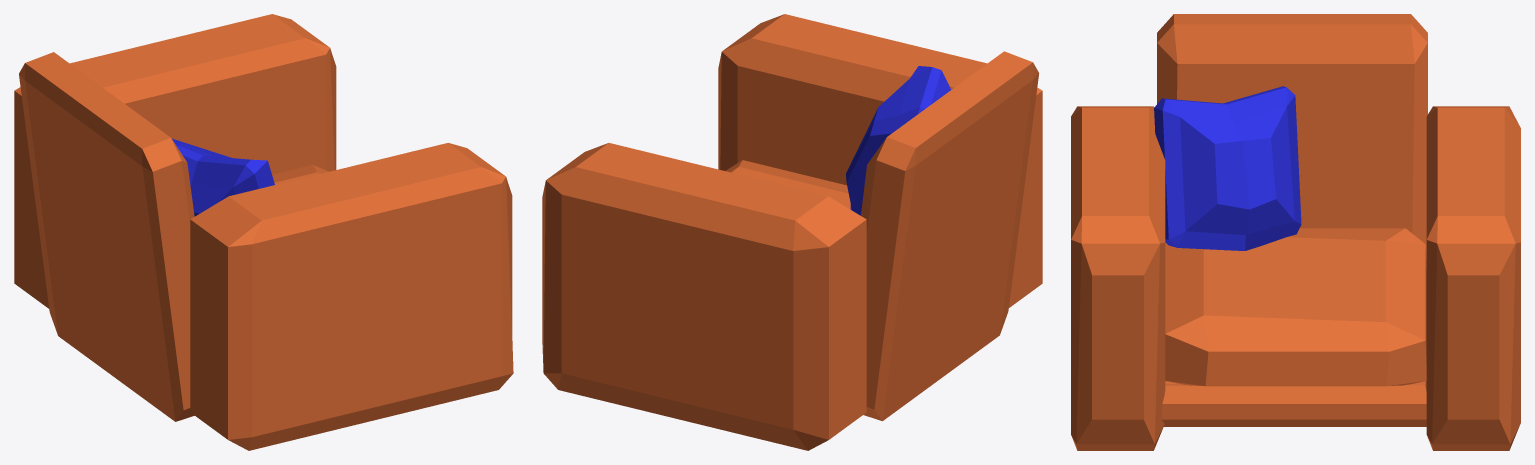
File: armchair(2).fbx
3 renders of one model, left to right at view 1: azimuth 30°, elevation 25°; view 2: azimuth 150°, elevation 25°; view 3: azimuth 270°, elevation 25°, orthographic.
Parts seen in each view (by area): view 1: couch, pillow2; view 2: couch, pillow2; view 3: couch, pillow2.
Boxes of the visible parts, x1=… form: couch: x1=14, y1=14, x2=513, y2=450; pillow2: x1=172, y1=138, x2=274, y2=216; couch: x1=542, y1=14, x2=1042, y2=450; pillow2: x1=846, y1=66, x2=950, y2=215; couch: x1=1071, y1=14, x2=1520, y2=450; pillow2: x1=1154, y1=86, x2=1301, y2=250.
Bounding box in the file's own units: 307 × 254 × 359.
